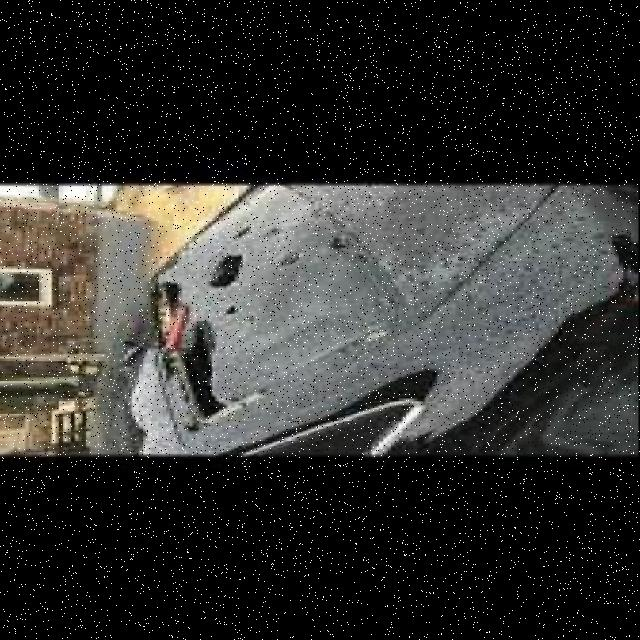damage: (151, 183, 417, 431)
